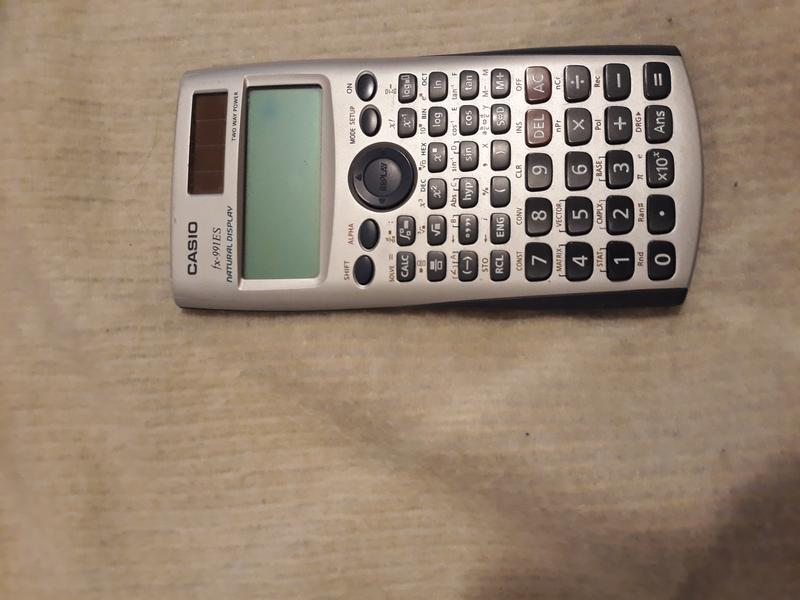CASIO_fx_991ES: (141, 25, 711, 332)
